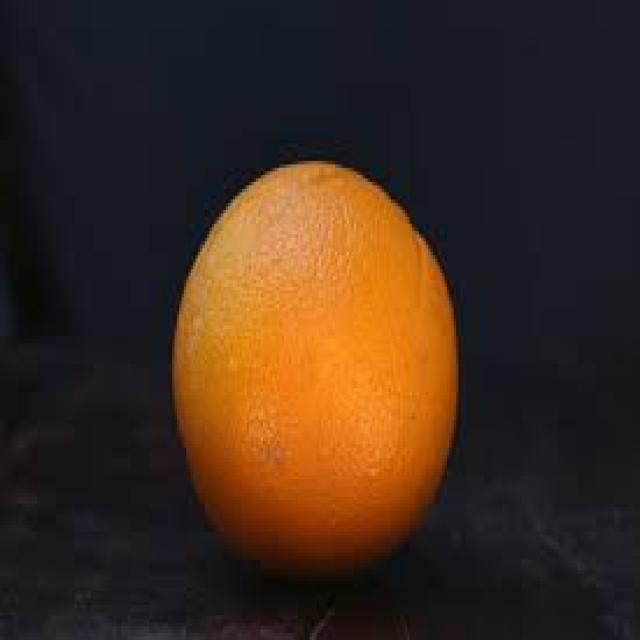orange: (175, 155, 456, 558)
